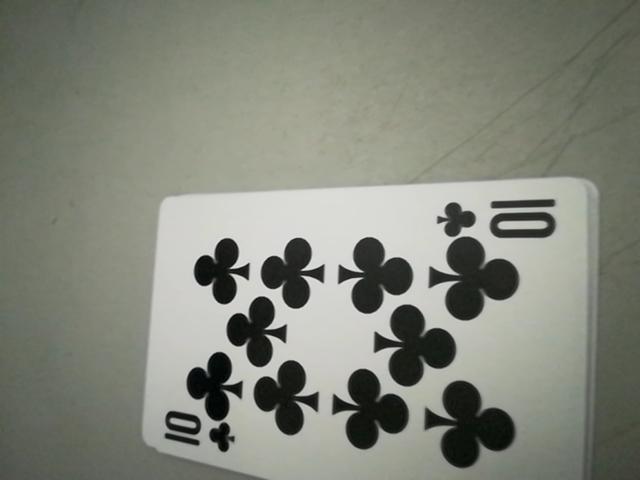mh 10: (436, 191, 566, 243), (156, 413, 238, 460)
